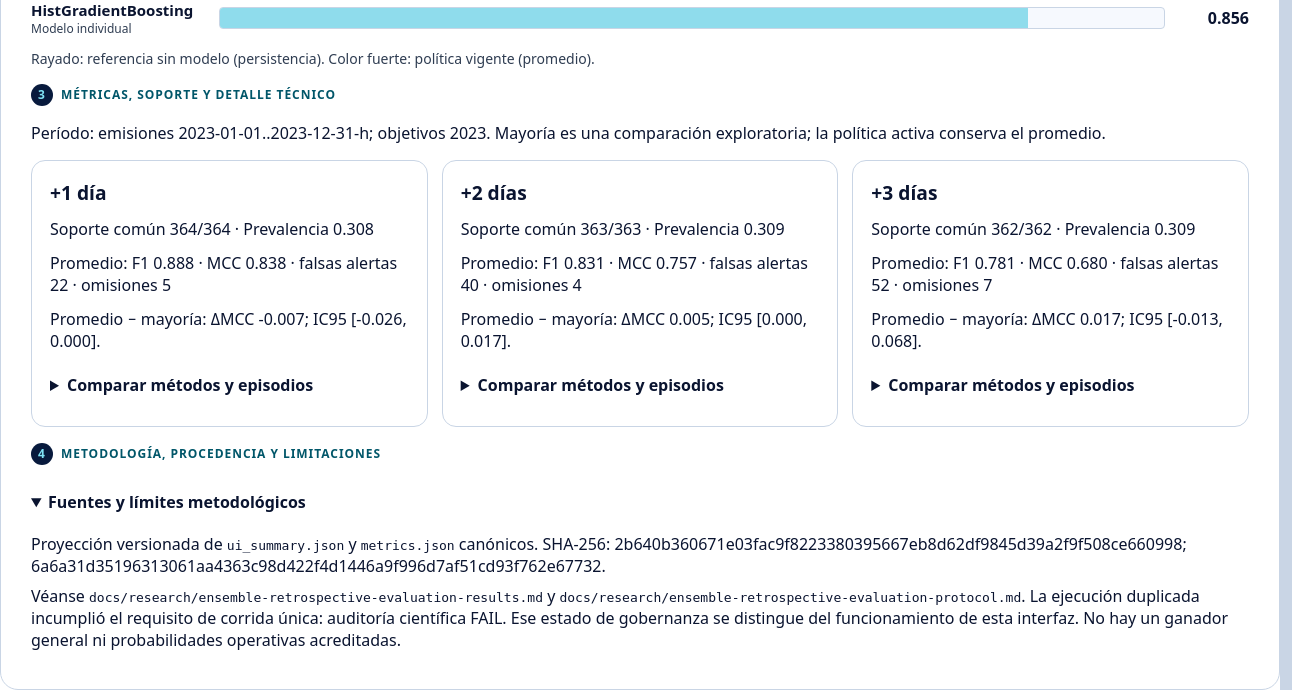
Test case: shows unavailable values as unavailable, never zero, for non-probabilistic comparisons
(page scrolled)
Expected: the text "Soporte común 364/364 · Prevalencia 0.308" is shown, left=50, top=218, right=409, bottom=240
Click the heading "Comparar métodos y episodios" below "-0.007": (190, 385) left=67, top=374, right=313, bottom=396
(page scrolled)
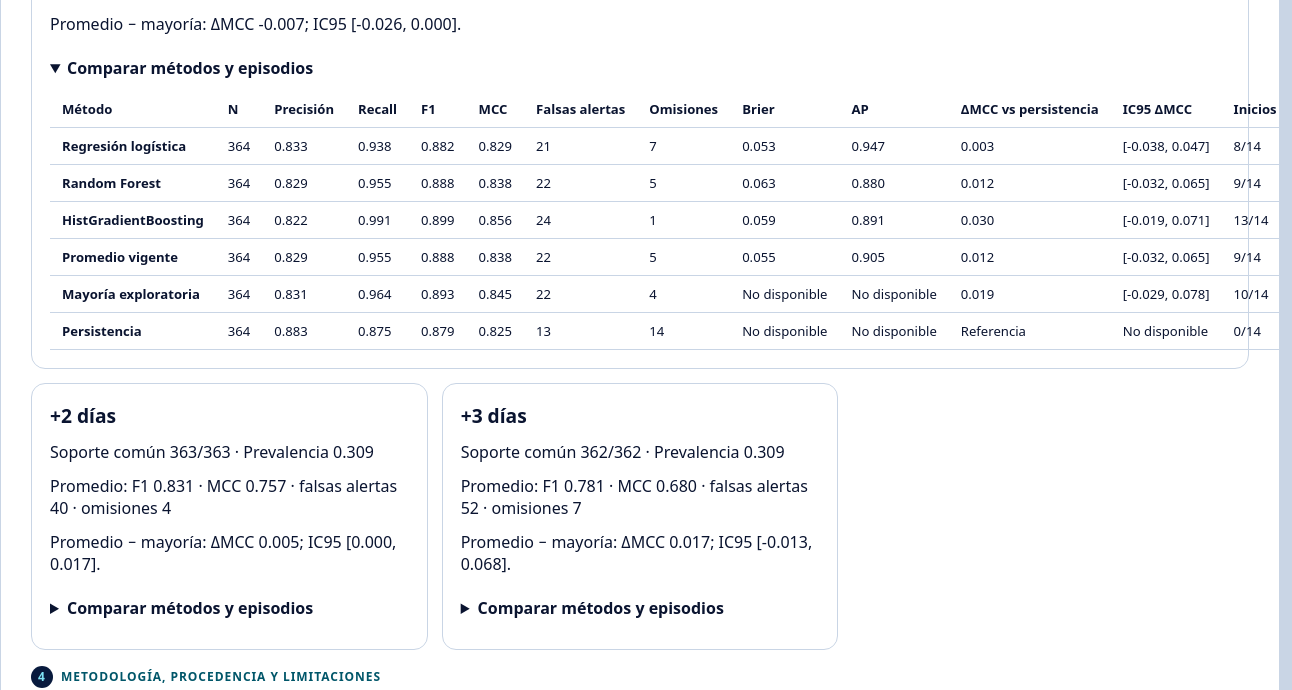
Result: the row "Persistencia " shows "No disponible" at left=742, top=322, right=827, bottom=340
